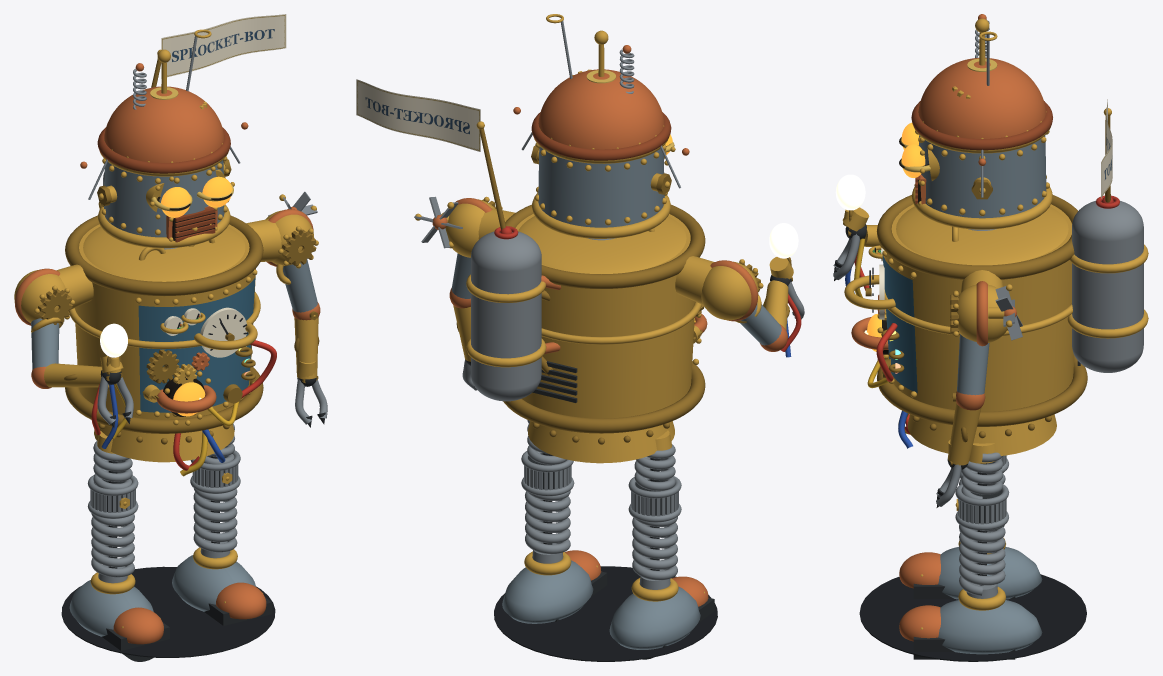
The model's file is sprocket-bot.glb.
3 renders of one model, left to right at view 1: azimuth 30°, elevation 25°; view 2: azimuth 150°, elevation 25°; view 3: azimuth 270°, elevation 25°, orthographic. The views are drawn at different scales.
Parts seen in each view (by area): view 1: brass, copper, gunmetal, headBlue, brassDark, rubber, steelBlue, flag, copperDark, darkSteel, eyeGlow, cream (+6 smaller); view 2: brass, gunmetal, headBlue, copper, brassDark, rubber, flag, darkSteel, copperDark, glassBulb; view 3: brass, gunmetal, headBlue, copper, brassDark, rubber, steelBlue, copperDark, darkSteel, eyeGlow, glassBulb, flag (+2 smaller).
Boxes of the visible parts, x1,y1,x2,y2 form: brass: (14, 29, 318, 628); copper: (15, 63, 320, 644); gunmetal: (87, 36, 327, 583); headBlue: (31, 160, 317, 636); brassDark: (38, 58, 319, 444); rubber: (61, 566, 275, 657); steelBlue: (138, 277, 255, 412); flag: (161, 14, 286, 78); copperDark: (97, 127, 230, 242); darkSteel: (94, 370, 325, 661); eyeGlow: (161, 176, 232, 416); cream: (164, 307, 246, 357); brass: (415, 14, 793, 601); gunmetal: (414, 21, 804, 589); headBlue: (451, 147, 781, 649); copper: (432, 45, 787, 606); brassDark: (456, 128, 792, 444); rubber: (494, 566, 717, 661); flag: (356, 79, 480, 151); darkSteel: (465, 275, 794, 659); copperDark: (531, 112, 671, 160); glassBulb: (769, 223, 798, 258); brass: (842, 18, 1148, 629); gunmetal: (833, 20, 1143, 598); headBlue: (919, 135, 1046, 654); copper: (851, 14, 1045, 641); brassDark: (848, 116, 1110, 465); rubber: (859, 574, 1086, 661); steelBlue: (882, 255, 917, 393); copperDark: (911, 101, 1052, 203); darkSteel: (834, 224, 1080, 659); eyeGlow: (867, 122, 925, 351); glassBulb: (835, 174, 865, 210); flag: (1101, 99, 1112, 198).
Size of the model in its own units: 1.36 by 2.27 by 1.05.
26 materials, 1 textured.
